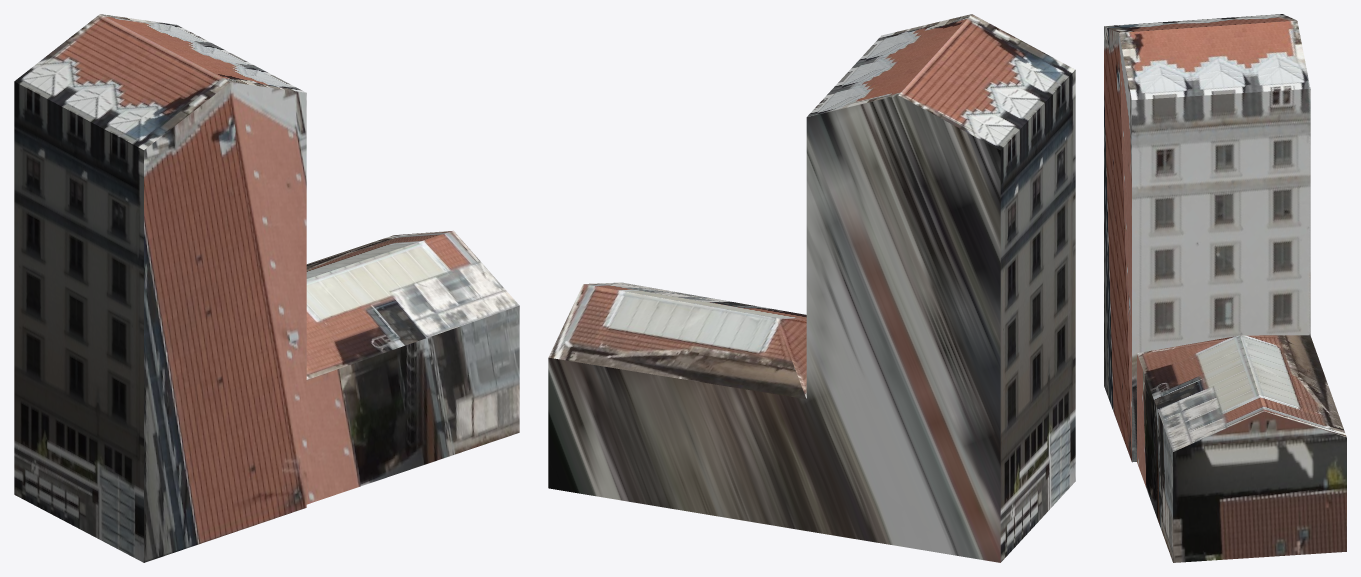
The picture shows the model from 3 angles, left to right: view 1: azimuth 30°, elevation 25°; view 2: azimuth 150°, elevation 25°; view 3: azimuth 270°, elevation 25°; orthographic projection. The views are drawn at different scales.
Visible parts, largest first — view 1: Z_UP; view 2: Z_UP; view 3: Z_UP.
Part boxes in pixels (left/top/right/bottom): Z_UP: left=14, top=14, right=519, bottom=562; Z_UP: left=548, top=14, right=1075, bottom=562; Z_UP: left=1104, top=14, right=1346, bottom=562.
Size of the model in its own units: 27.02 by 26.35 by 14.71.
2 materials, 1 textured.
